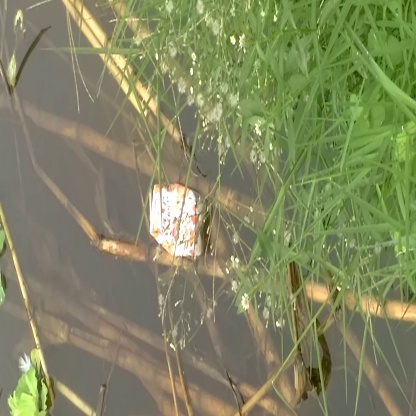milk-box: (151, 174, 215, 257)
